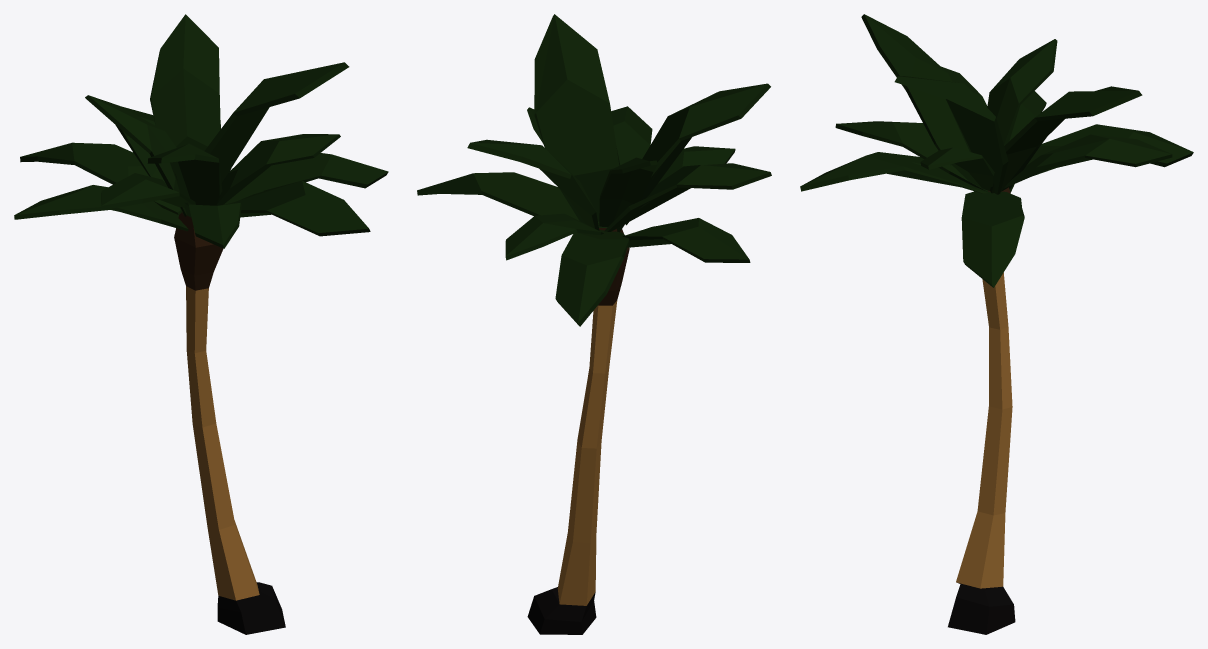
File: island_palm_2.glb
The picture shows the model from 3 angles, left to right: view 1: azimuth 30°, elevation 25°; view 2: azimuth 150°, elevation 25°; view 3: azimuth 270°, elevation 25°; orthographic projection.
Parts seen in each view (by area): view 1: palm1.1; view 2: palm1.1; view 3: palm1.1.
Part boxes in pixels (<box>): palm1.1: <box>14,14,388,634</box>; palm1.1: <box>417,14,771,634</box>; palm1.1: <box>800,14,1193,634</box>.
Bounding box in the file's own units: 4.29 × 6.62 × 4.16.
